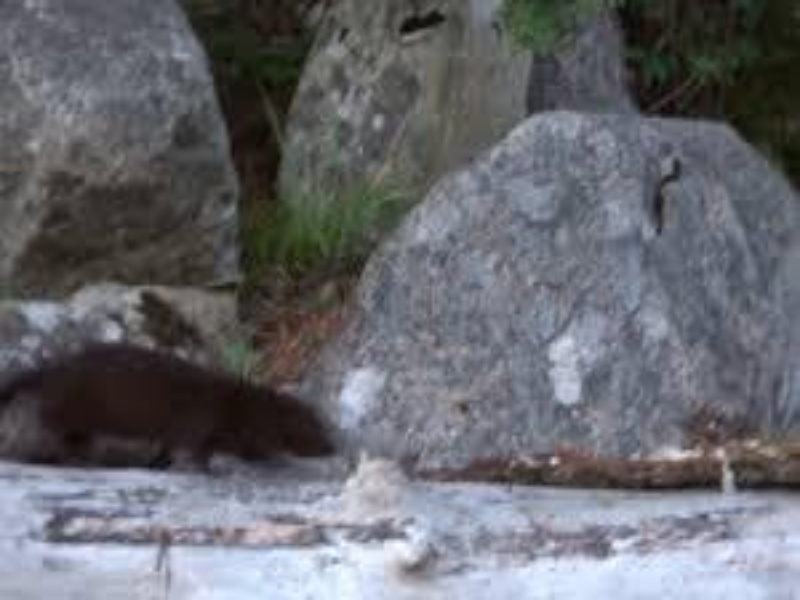minkish: (1, 341, 335, 473)
